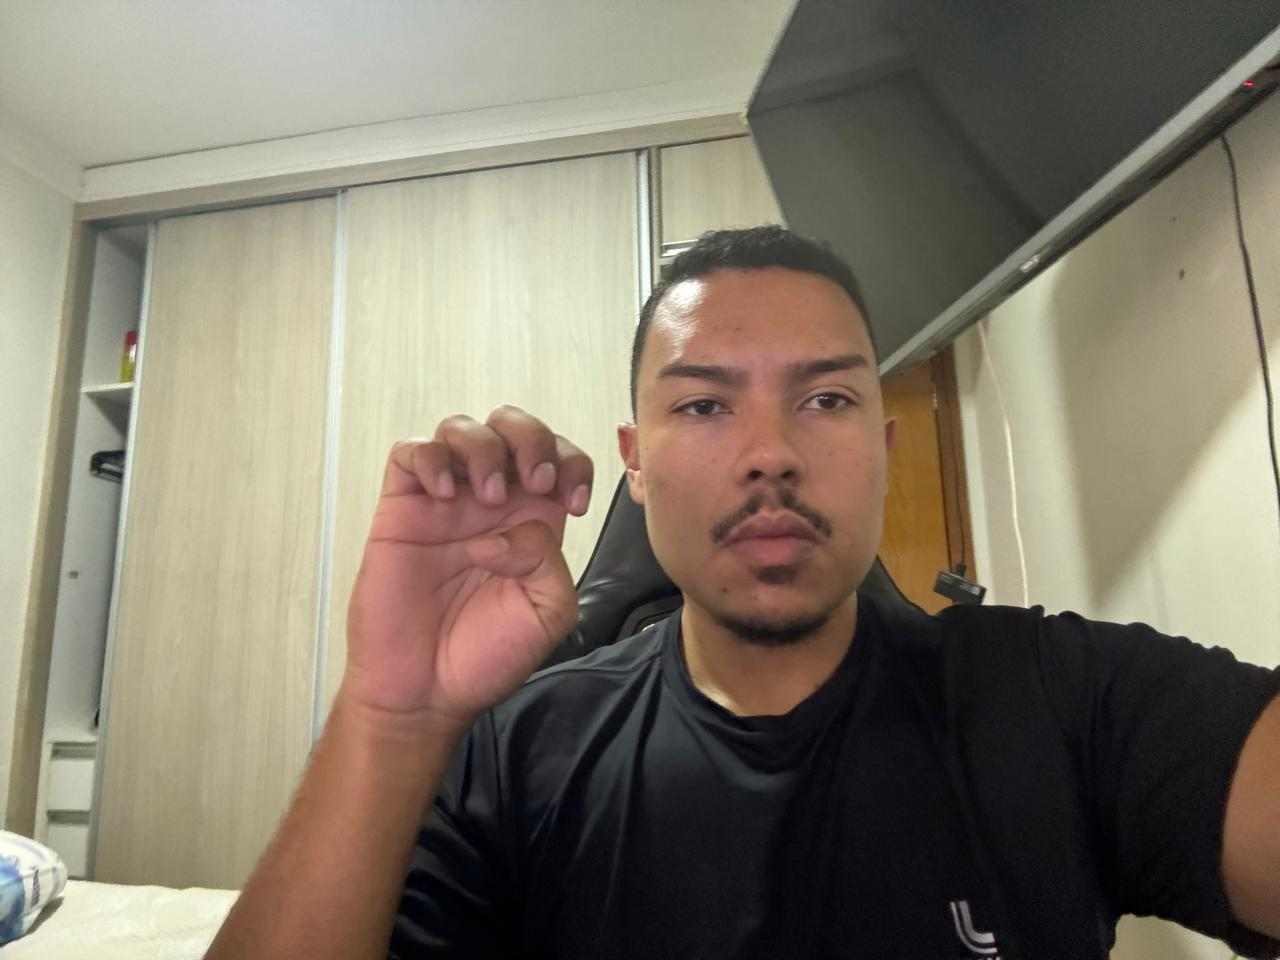e: (340, 401, 598, 730)
